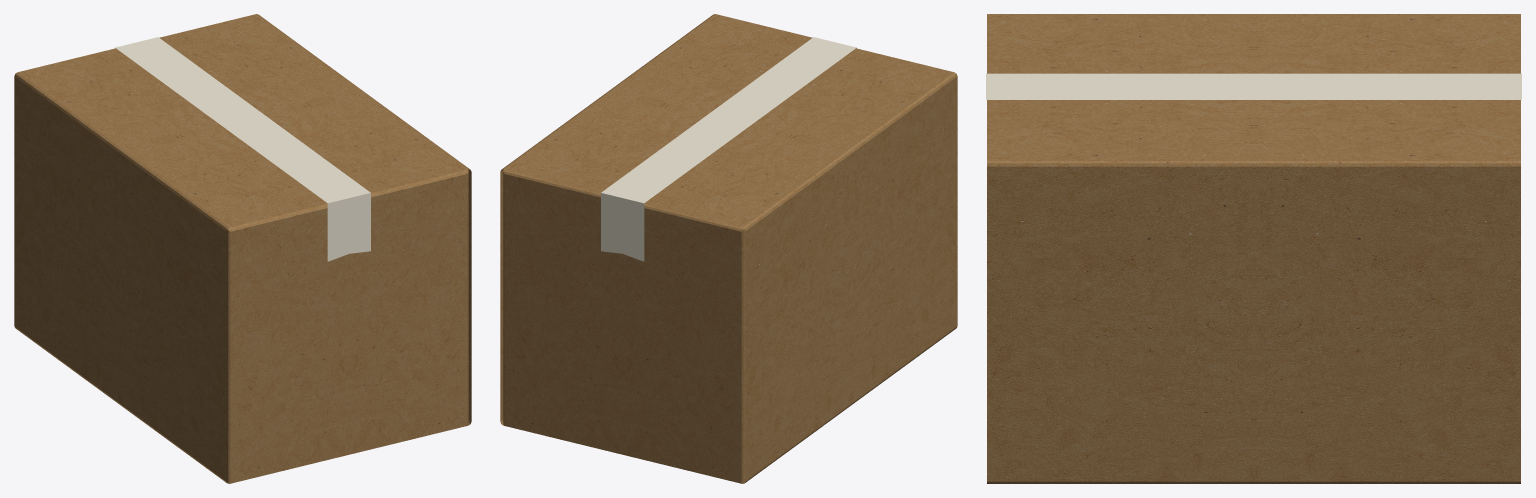
Rendered from CajaCarton.fbx.
3 renders of one model, left to right at view 1: azimuth 30°, elevation 25°; view 2: azimuth 150°, elevation 25°; view 3: azimuth 270°, elevation 25°, orthographic. The views are drawn at different scales.
Visible parts, largest first — view 1: Cube, Plane; view 2: Cube, Plane; view 3: Cube, Plane.
Part boxes in pixels (x1,y1,x2,y2): Cube: (14, 14, 471, 483); Plane: (115, 37, 370, 261); Cube: (500, 14, 957, 483); Plane: (601, 37, 856, 261); Cube: (987, 14, 1520, 483); Plane: (986, 73, 1521, 99).
Bounding box in the file's own units: 20 × 20.05 × 30.09.
Materials: 2 (1 with a texture image).
